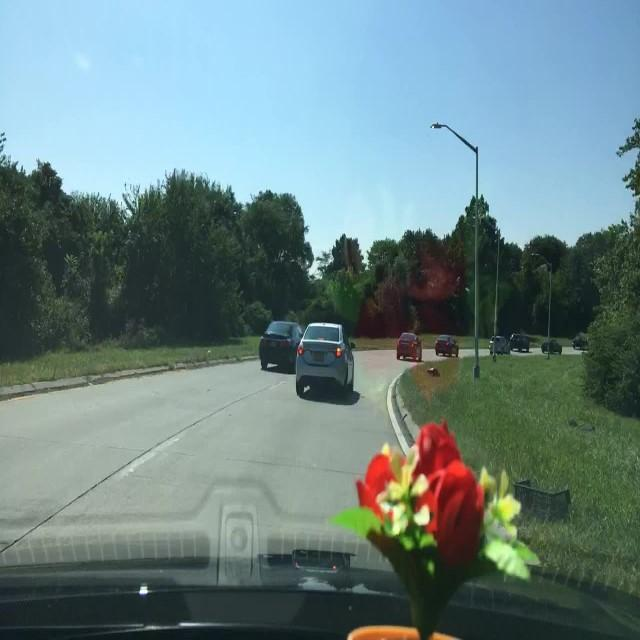normal: (246, 292, 563, 422)
